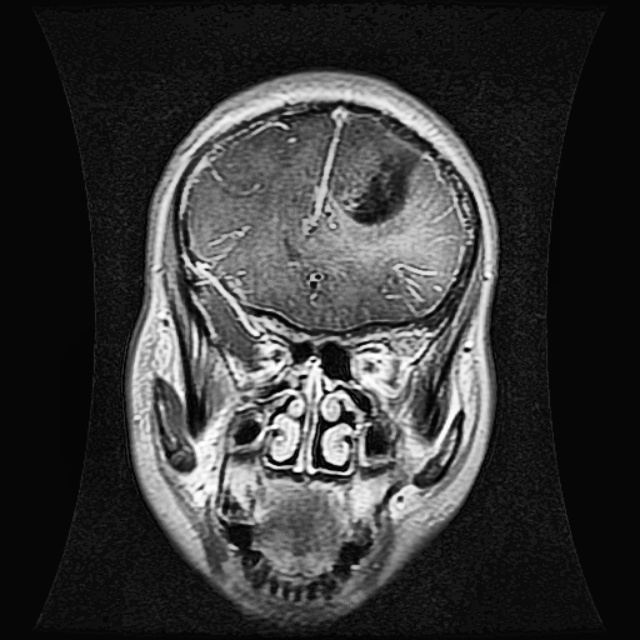Meningioma: (347, 144, 423, 225)
